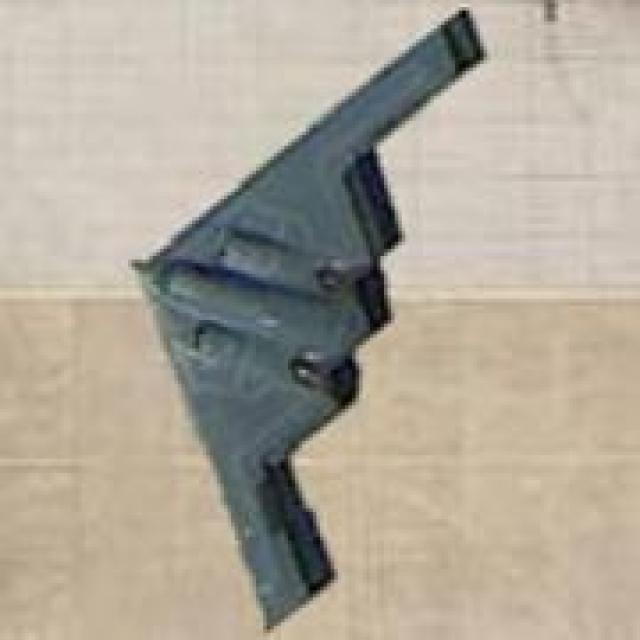B-2_TopDown: (124, 0, 490, 629)
